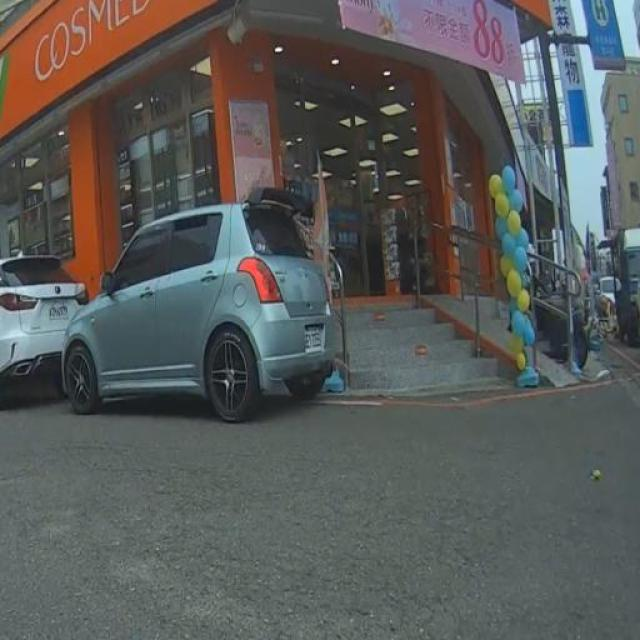Legalparking: (0, 183, 362, 408)
